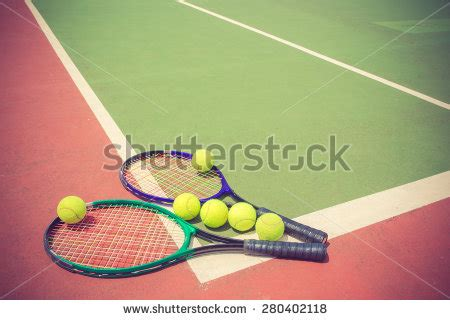tennis_ball: (57, 195, 87, 225), (200, 198, 229, 228), (228, 202, 257, 232), (255, 212, 284, 241), (173, 192, 201, 221), (192, 149, 214, 172)
